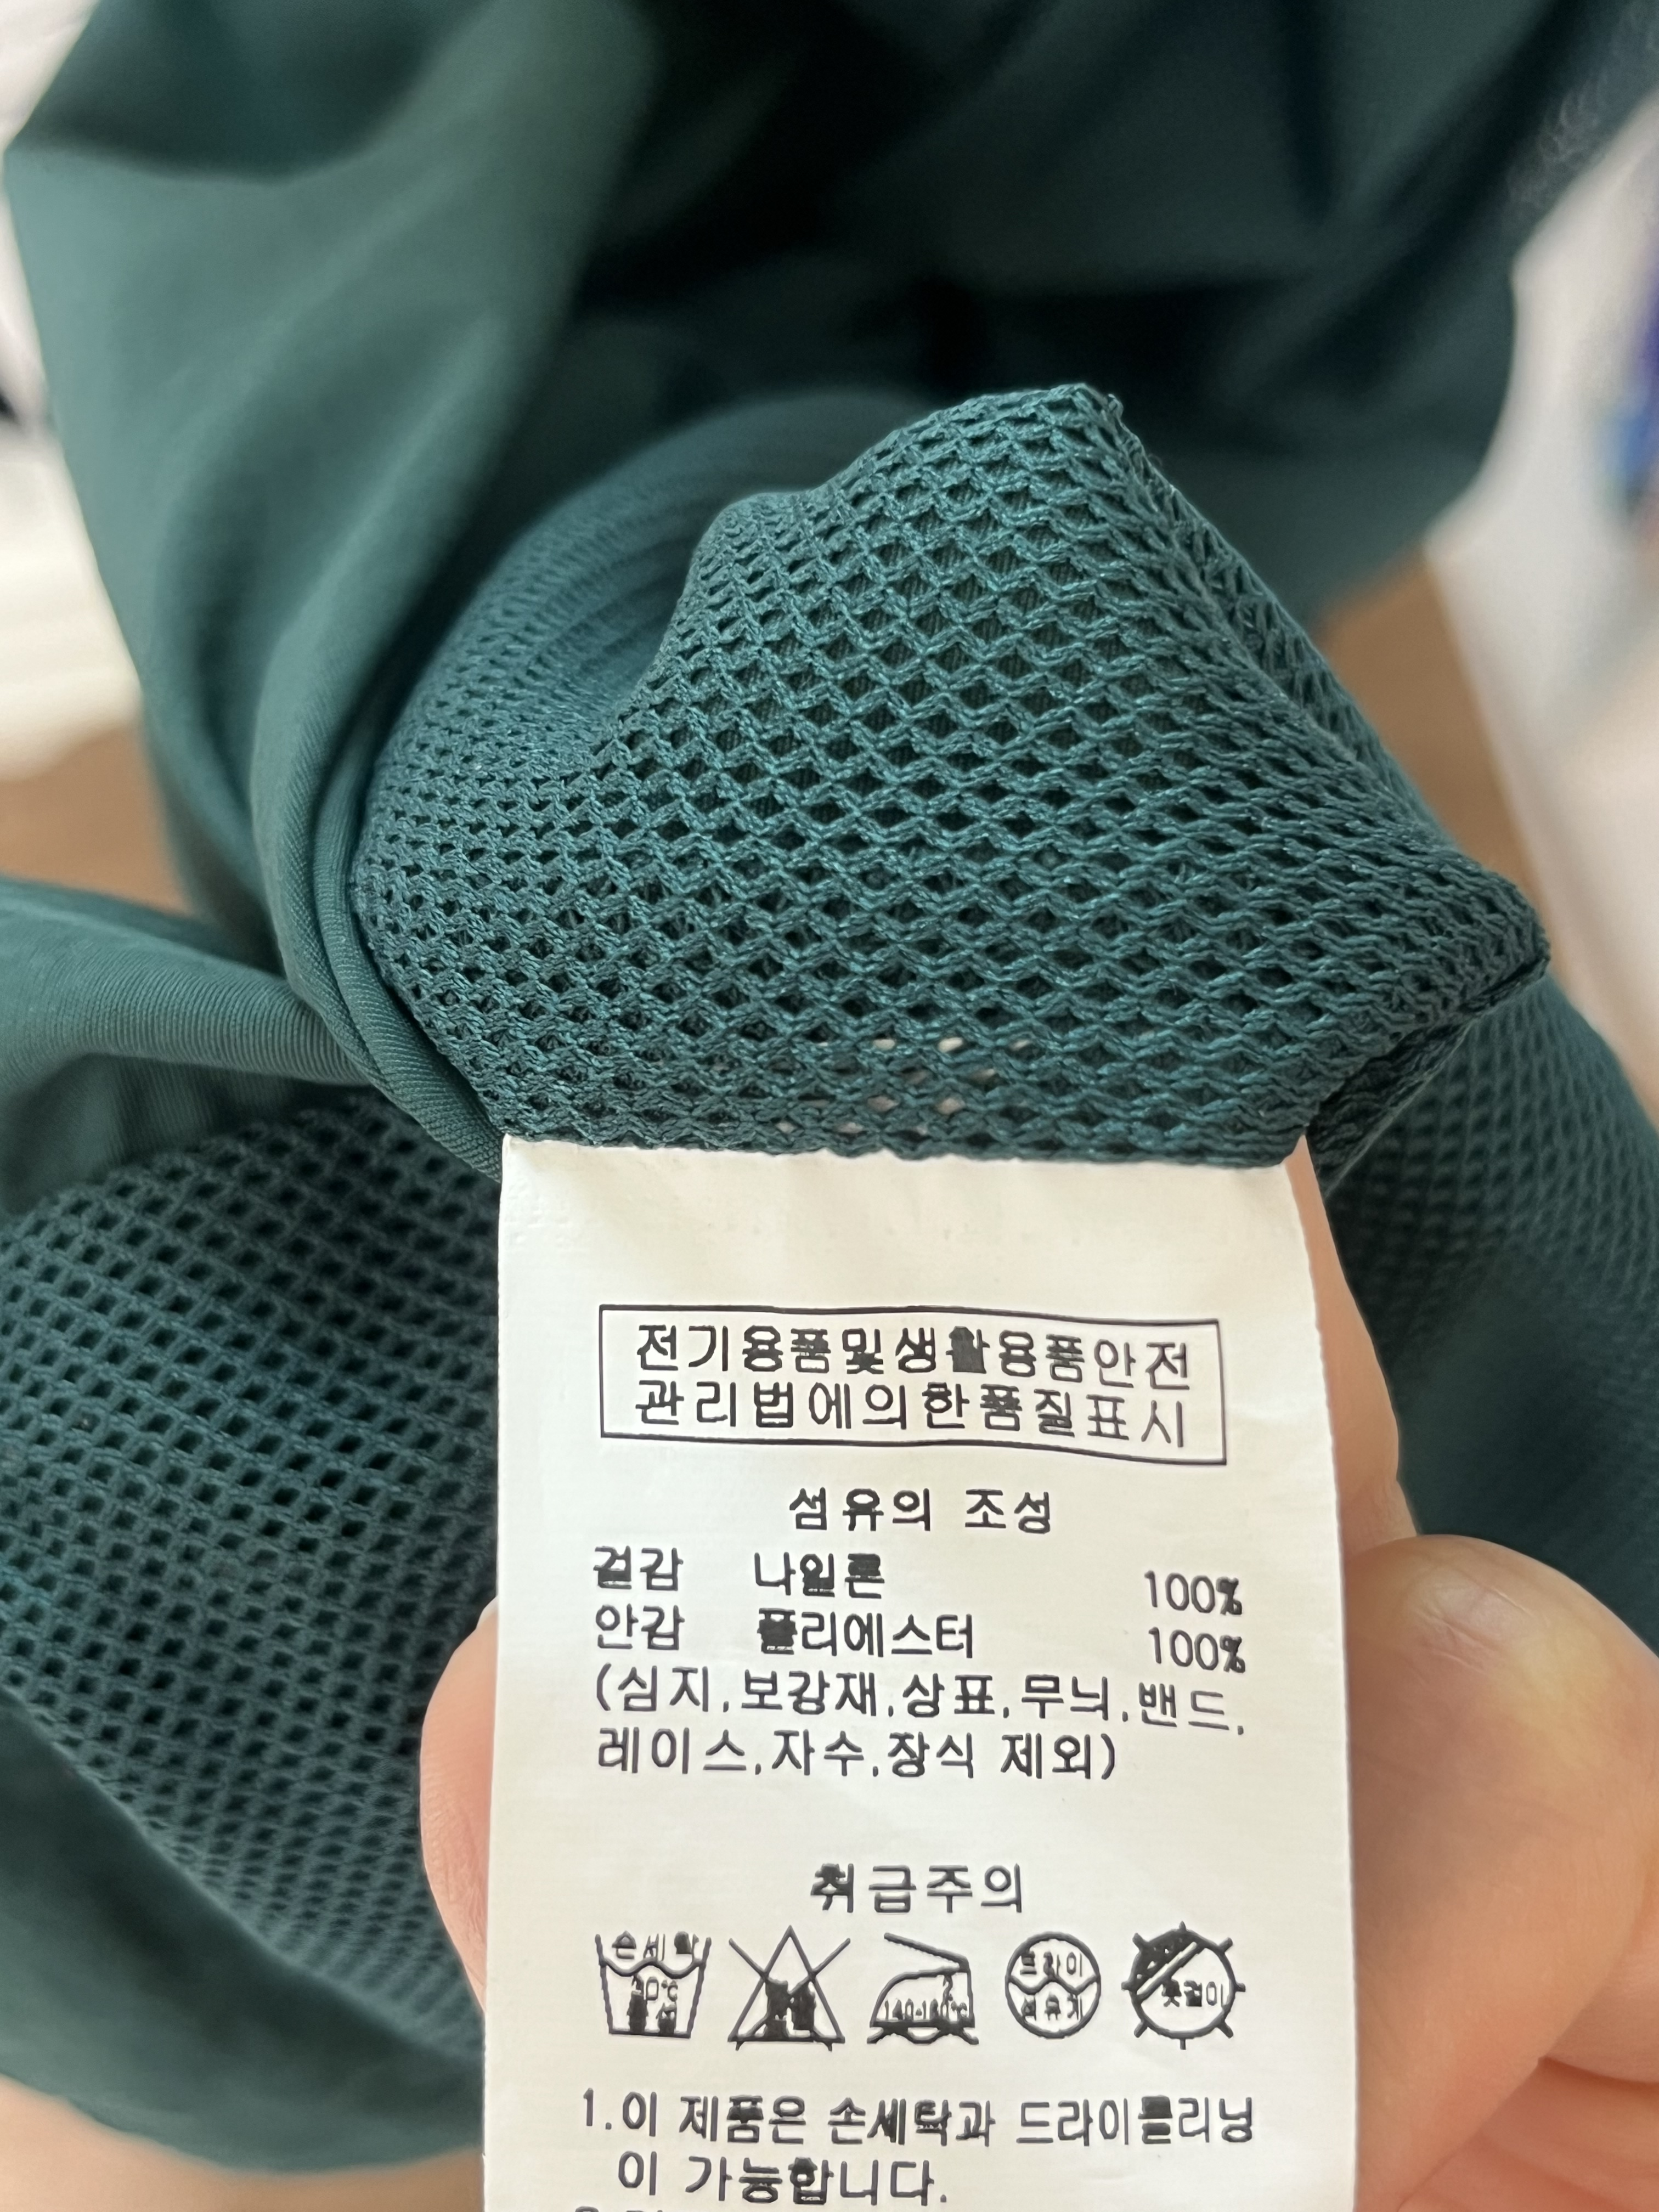dry_clean_petrol_only: (997, 1921, 1108, 2047)
dry_flat_in_shade: (1126, 1907, 1258, 2050)
hand_wash: (580, 1919, 720, 2048)
iron_low: (864, 1923, 986, 2055)
non_chlorine_bleach: (720, 1912, 861, 2062)
